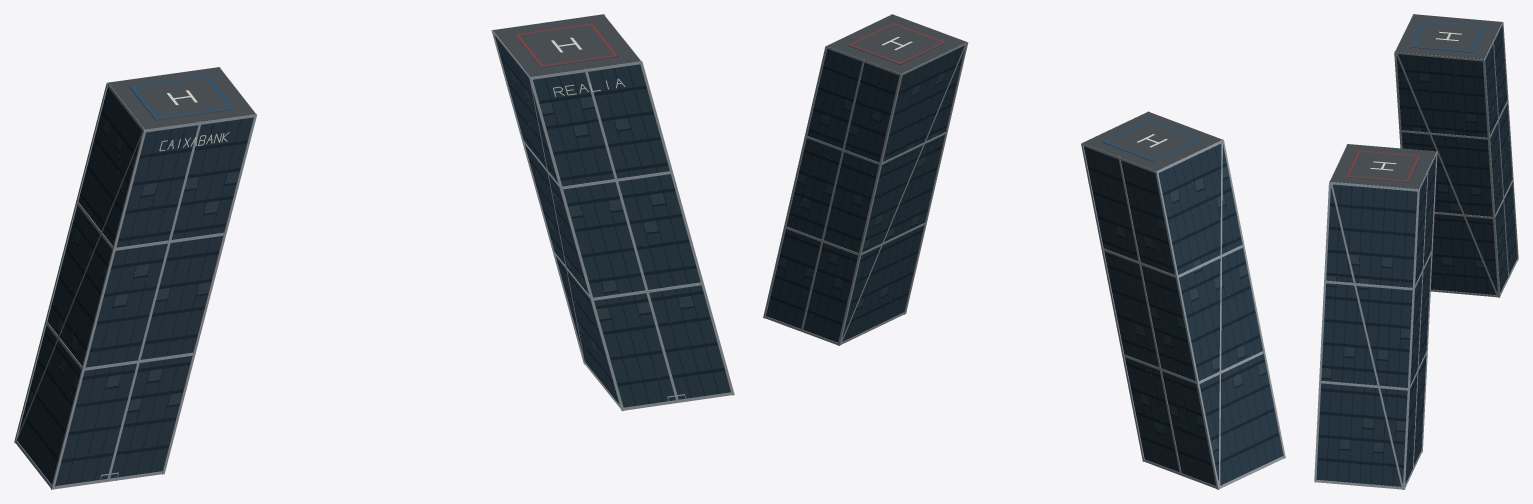
Rendered from puerta-de-europa-far.glb.
3 views of the same model, side by side, from view 1: azimuth 30°, elevation 25°; view 2: azimuth 150°, elevation 25°; view 3: azimuth 270°, elevation 25° (orthographic). The views are drawn at different scales.
Parts seen in each view (by area): view 1: puerta-de-europa-0-glass, puerta-de-europa-0-spandrel, puerta-de-europa-0-metal, puerta-de-europa-0-roof, puerta-de-europa-0-light, puerta-de-europa-0-sign; view 2: puerta-de-europa-0-glass, puerta-de-europa-0-spandrel, puerta-de-europa-0-metal, puerta-de-europa-0-roof, puerta-de-europa-0-light; view 3: puerta-de-europa-0-glass, puerta-de-europa-0-spandrel, puerta-de-europa-0-metal, puerta-de-europa-0-roof, puerta-de-europa-0-light, puerta-de-europa-0-red, puerta-de-europa-0-blue.
Part boxes in pixels (x1,y1,x2,y2): puerta-de-europa-0-glass: (17, 35, 730, 486); puerta-de-europa-0-spandrel: (21, 43, 724, 484); puerta-de-europa-0-metal: (14, 14, 734, 489); puerta-de-europa-0-roof: (108, 14, 640, 129); puerta-de-europa-0-light: (27, 70, 693, 411); puerta-de-europa-0-sign: (159, 37, 625, 151); puerta-de-europa-0-glass: (766, 45, 1282, 485); puerta-de-europa-0-spandrel: (770, 42, 1278, 483); puerta-de-europa-0-metal: (763, 14, 1285, 489); puerta-de-europa-0-roof: (827, 14, 1221, 170); puerta-de-europa-0-light: (777, 72, 1266, 450); puerta-de-europa-0-glass: (1316, 26, 1517, 486); puerta-de-europa-0-spandrel: (1317, 23, 1516, 485); puerta-de-europa-0-metal: (1314, 14, 1518, 489); puerta-de-europa-0-roof: (1330, 14, 1501, 188); puerta-de-europa-0-light: (1321, 60, 1514, 451); puerta-de-europa-0-red: (1347, 150, 1419, 181); puerta-de-europa-0-blue: (1412, 21, 1484, 51).
Size of the model in its own units: 218 by 115 by 79.04.
